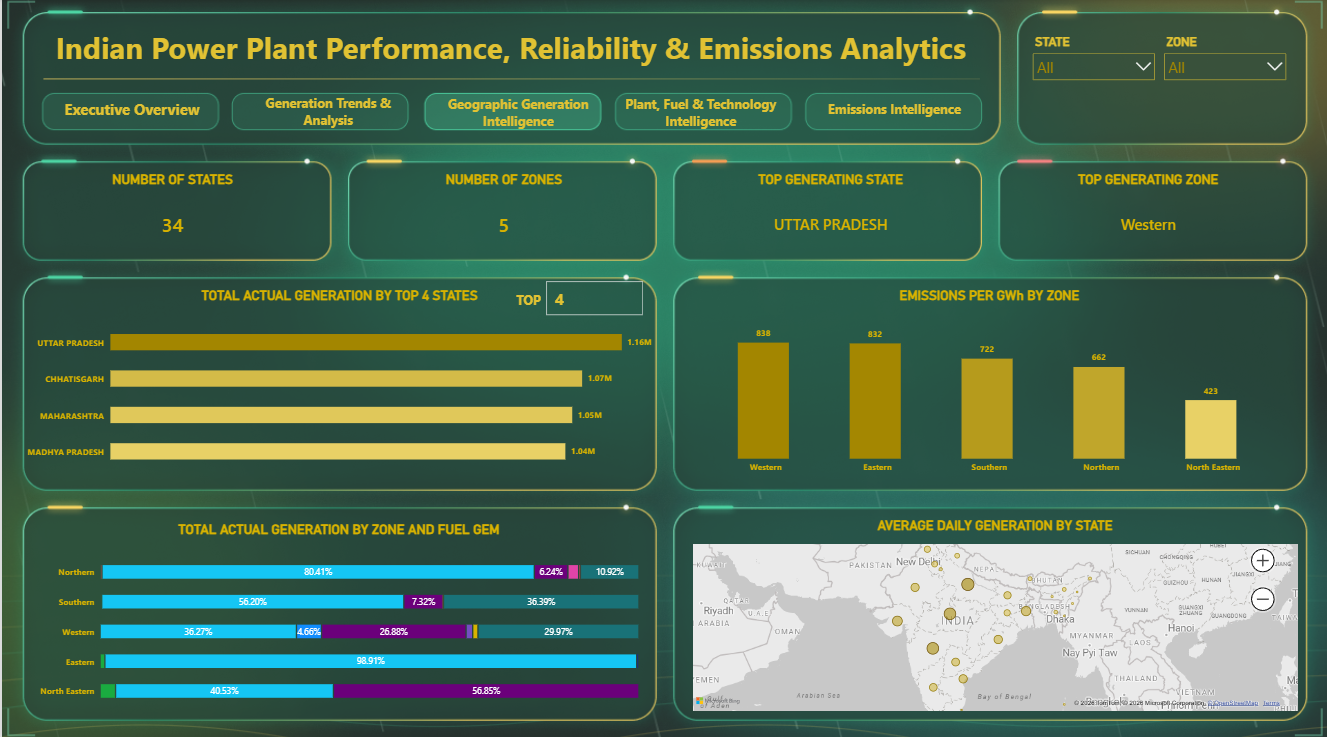

The dashboard page shown, as its layout file describes it:
{"tool":"powerbi","page":{"name":"OVERVIEW","canvas":[1920,1080],"ordinal":0},"visuals":[{"type":"treemap","title":"TOTAL ACTUAL GENERATION BY PLANT NAME","fields":{"Group":["Dim_PlantUnitYear.plant_name"],"Values":["calculation_table.Total_actual_generation"]},"box":[980.8,745.6,907.7,296.4],"z":0},{"type":"donutChart","title":"TOTAL ACTUAL GENERATION BY PLANT TYPE","fields":{"Category":["Dim_PlantUnitYear.type"],"Y":["calculation_table.Total_actual_generation"]},"box":[77.8,745.6,823.4,318.5],"z":1000},{"type":"clusteredColumnChart","title":"TOTAL NET GENERATION AND ACTUAL GENERATION BY FISCAL YEAR","fields":{"Category":["Dim_PlantUnitYear.fiscal_year"],"Y":["calculation_table.Total_net_generations","calculation_table.Total_actual_generation"]},"box":[0,407.5,977.7,306.7],"z":2000},{"type":"card","title":"TOTAL ACTUAL GENERATION","fields":{"Values":["calculation_table.Total_actual_generation"]},"box":[35,240.8,438.4,142],"z":3000},{"type":"card","title":"TOTAL EMISSIONS","fields":{"Values":["calculation_table.Total_emissions"]},"box":[504.3,240.8,438.4,140],"z":4000},{"type":"card","title":"TOTAL NET GENERATIONS","fields":{"Values":["calculation_table.Total_net_generations"]},"box":[977.7,240.8,436.4,133.8],"z":5000},{"type":"card","title":"NUMBER OF PLANT ","fields":{"Values":["calculation_table.number_of_plant_units"]},"box":[1444.9,236.7,422,142],"z":6000},{"type":"clusteredBarChart","title":"TOTAL ACTUAL GENERATION BY TECHNOLOGY","fields":{"Category":["Fact_PowerGeneration.technology"],"Y":["calculation_table.Total_actual_generation"]},"box":[977.2,407.2,912.1,307.6],"z":7000},{"type":"textbox","box":[77.8,41.6,1512.9,150.2],"z":8000,"group":"g1"},{"type":"slicer","fields":{"Values":["Dim_PlantUnitYear.fiscal_year"]},"box":[1500.2,52.5,155.6,150.2],"z":8000},{"type":"slicer","fields":{"Values":["Dim_Geography.state_id"]},"box":[1677.6,52.5,186.4,150.2],"z":9000},{"type":"pageNavigator","box":[56.1,141.1,1357.2,50.7],"z":9000,"group":"g1"},{"type":"group","id":"g1","title":"Group 1","box":[56.1,41.6,1534.6,159.3],"z":10000},{"type":"textbox","box":[77.8,146.6,220.8,39.8],"z":10000,"group":"g1"},{"type":"textbox","box":[352.9,139.3,238.9,52.5],"z":11000,"group":"g1"},{"type":"textbox","box":[637,141.1,220.8,59.7],"z":12000,"group":"g1"},{"type":"textbox","box":[901.2,141.1,220.8,54.3],"z":13000,"group":"g1"},{"type":"textbox","box":[1181.5,149.1,220.8,36.2],"z":14000,"group":"g1"}]}

Visuals, with their boxes in screenshot pixels (x1, y1, x2, y2), scaled from the page's 1920x1080 canvas onto the 1327x737 screenshot:
"TOTAL ACTUAL GENERATION BY PLANT NAME" treemap: x1=678 y1=509 x2=1305 y2=711
"TOTAL ACTUAL GENERATION BY PLANT TYPE" donutChart: x1=54 y1=509 x2=623 y2=726
"TOTAL NET GENERATION AND ACTUAL GENERATION BY FISCAL YEAR" clusteredColumnChart: x1=0 y1=278 x2=676 y2=487
"TOTAL ACTUAL GENERATION" card: x1=24 y1=164 x2=327 y2=261
"TOTAL EMISSIONS" card: x1=349 y1=164 x2=652 y2=260
"TOTAL NET GENERATIONS" card: x1=676 y1=164 x2=977 y2=256
"NUMBER OF PLANT " card: x1=999 y1=162 x2=1290 y2=258
"TOTAL ACTUAL GENERATION BY TECHNOLOGY" clusteredBarChart: x1=675 y1=278 x2=1306 y2=488
textbox: x1=54 y1=28 x2=1099 y2=131
slicer - Dim_PlantUnitYear.fiscal_year: x1=1037 y1=36 x2=1144 y2=138
slicer - Dim_Geography.state_id: x1=1159 y1=36 x2=1288 y2=138
pageNavigator: x1=39 y1=96 x2=977 y2=131
"Group 1" group: x1=39 y1=28 x2=1099 y2=137
textbox: x1=54 y1=100 x2=206 y2=127
textbox: x1=244 y1=95 x2=409 y2=131
textbox: x1=440 y1=96 x2=593 y2=137
textbox: x1=623 y1=96 x2=775 y2=133
textbox: x1=817 y1=102 x2=969 y2=126
